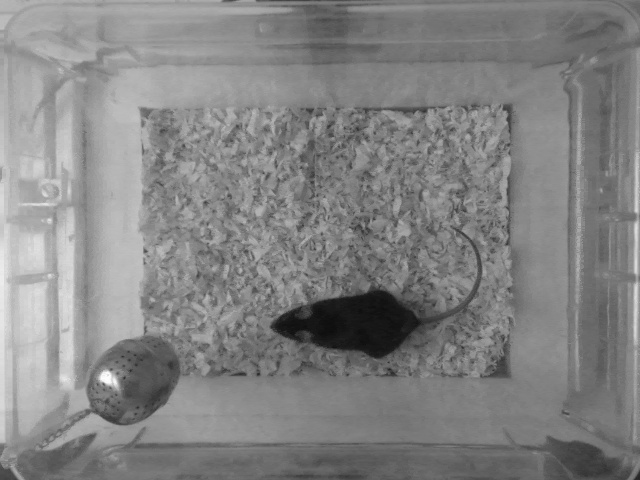mice: (268, 225, 484, 360)
